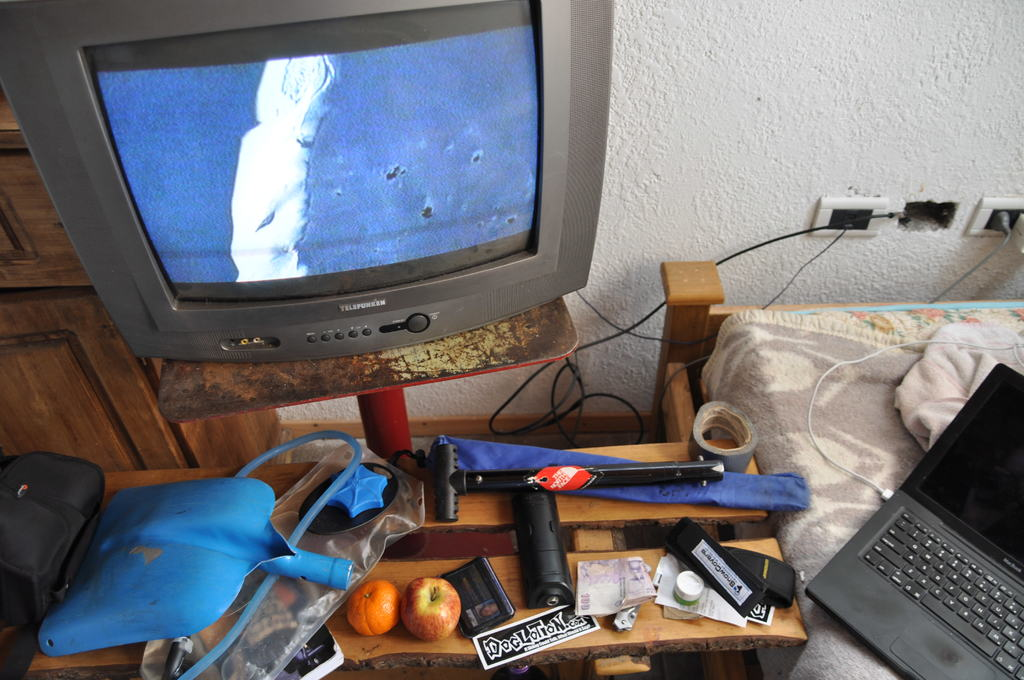Apple: (397, 583, 467, 654)
